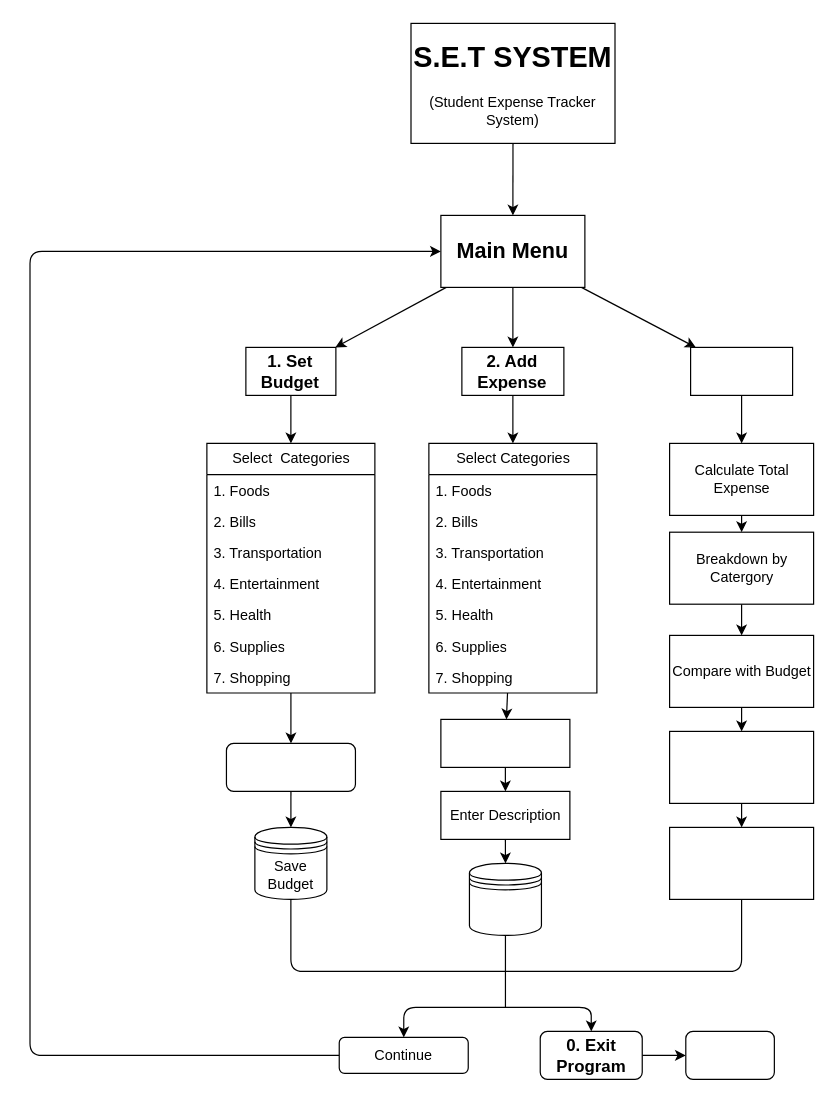
The diagram is 834 pixels wide and 1112 high, and some of its shapes have lost their labels. The centre of each missing label's shape, as x and y in pixels:
"3. View Summary" goes at (741,370).
"END" goes at (729,1054).
"Enter Amount" goes at (505,742).
"Enter Budget Amount" goes at (290,766).
"Save Expense" goes at (504,898).
"Show Highest Spending Category" goes at (741,766).
"Show Warning (Near or Over Budget)" goes at (741,862).
